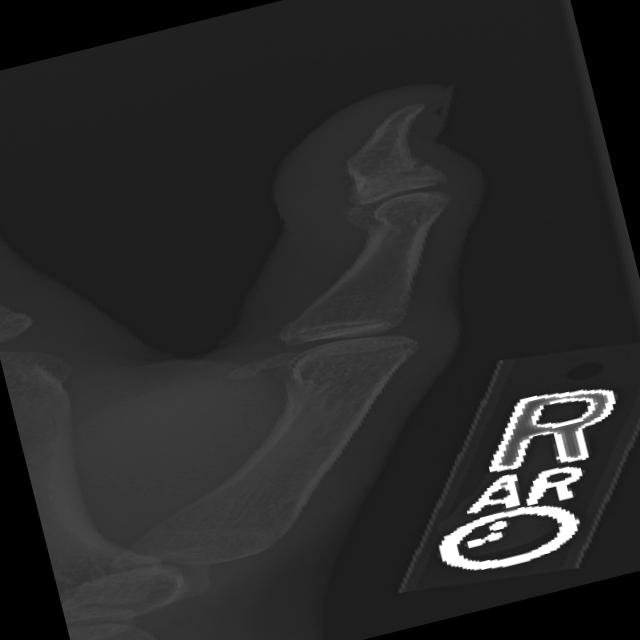fingers positive: (327, 136, 490, 218)
